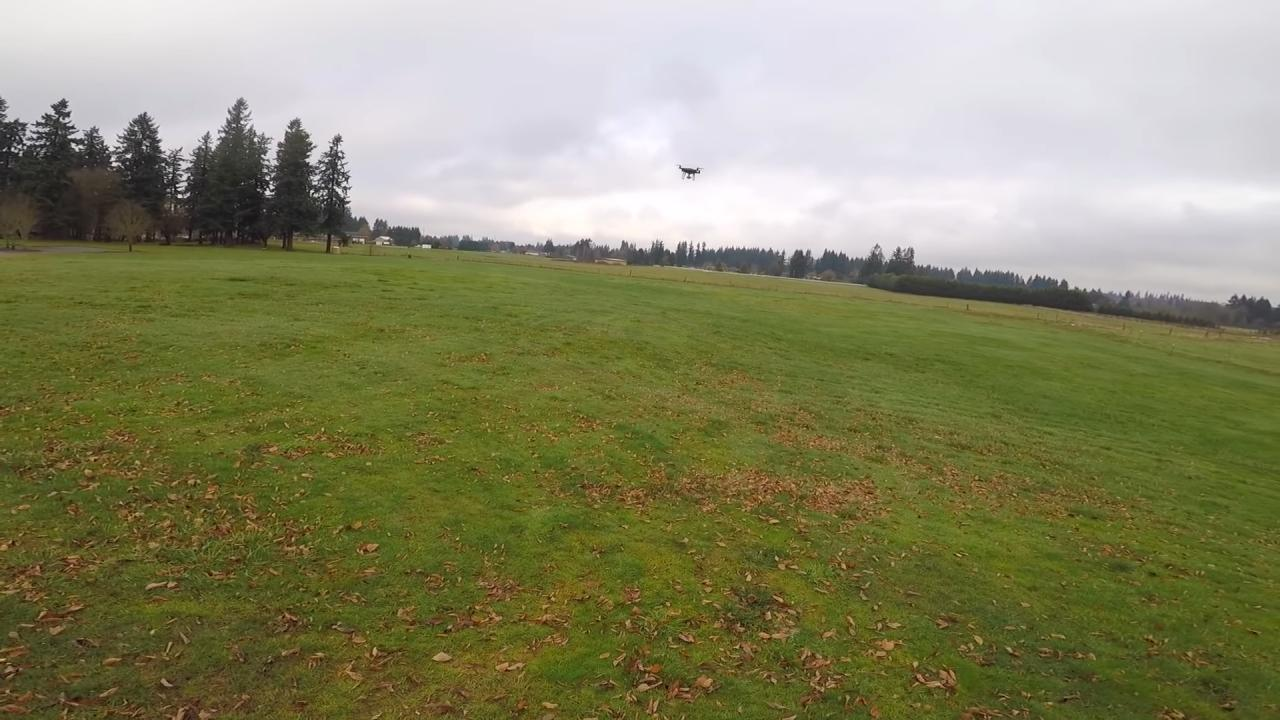Drone: (668, 154, 712, 191)
